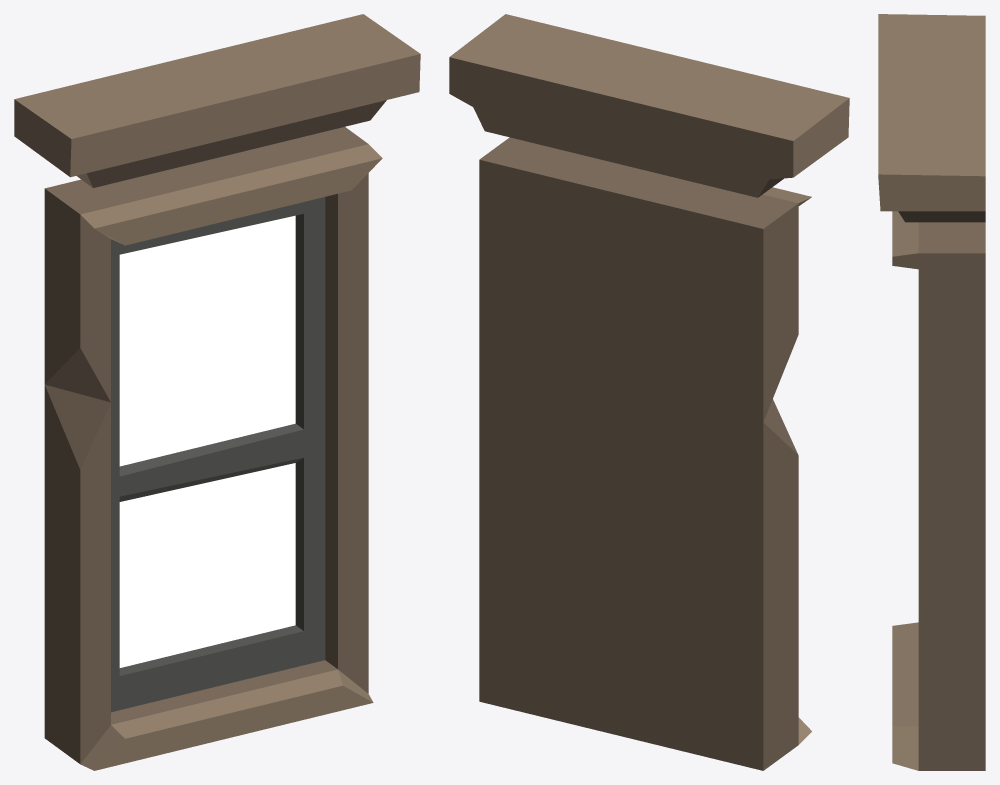
The model's file is SM_Prop_Window_01.fbx.
3 views of the same model, side by side, from view 1: azimuth 30°, elevation 25°; view 2: azimuth 150°, elevation 25°; view 3: azimuth 270°, elevation 25° (orthographic). The views are drawn at different scales.
Parts seen in each view (by area): view 1: SM_Prop_Window_01; view 2: SM_Prop_Window_01; view 3: SM_Prop_Window_01.
Part boxes in pixels (x1,y1,x2,y2): SM_Prop_Window_01: [14, 14, 420, 770]; SM_Prop_Window_01: [449, 14, 849, 770]; SM_Prop_Window_01: [878, 14, 985, 770].
Bounding box in the file's own units: 130 × 231 × 36.96.
